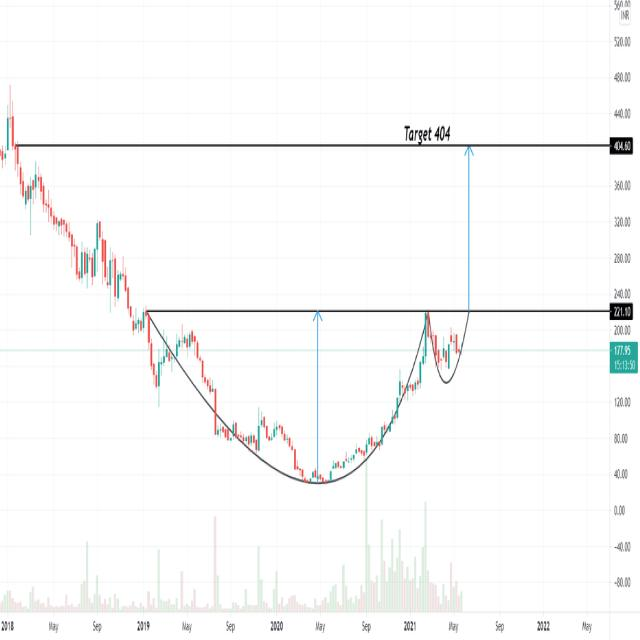Cup-and-handle: (141, 316, 474, 493)
